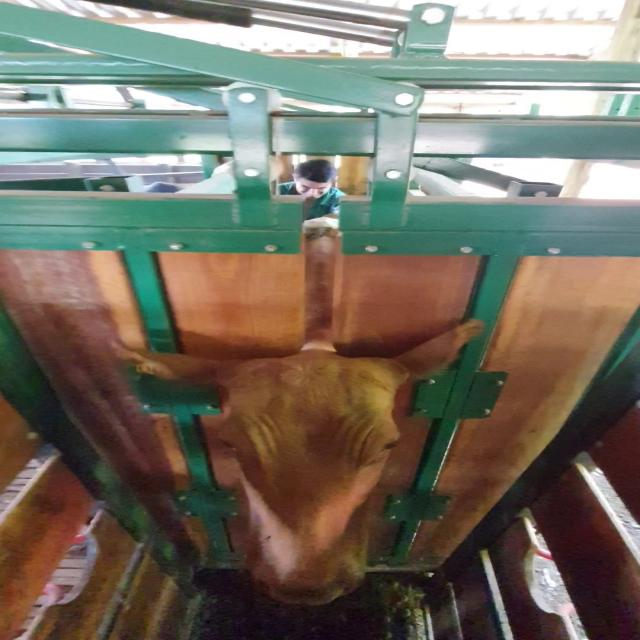cowFace: (221, 355, 401, 603)
